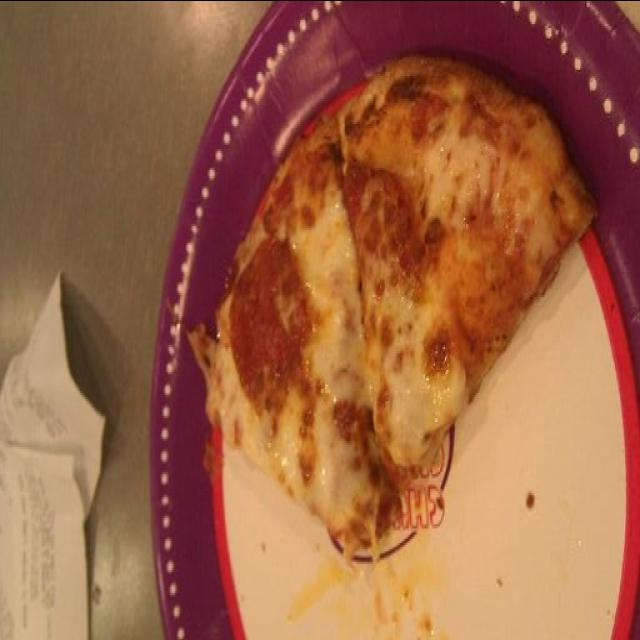pepperoni: (232, 235, 309, 410)
pizza: (204, 58, 597, 548)
